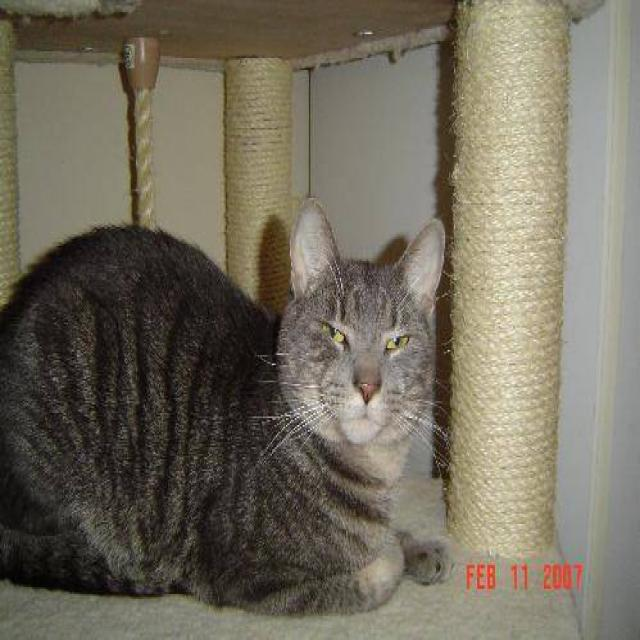cat: (0, 196, 455, 616)
